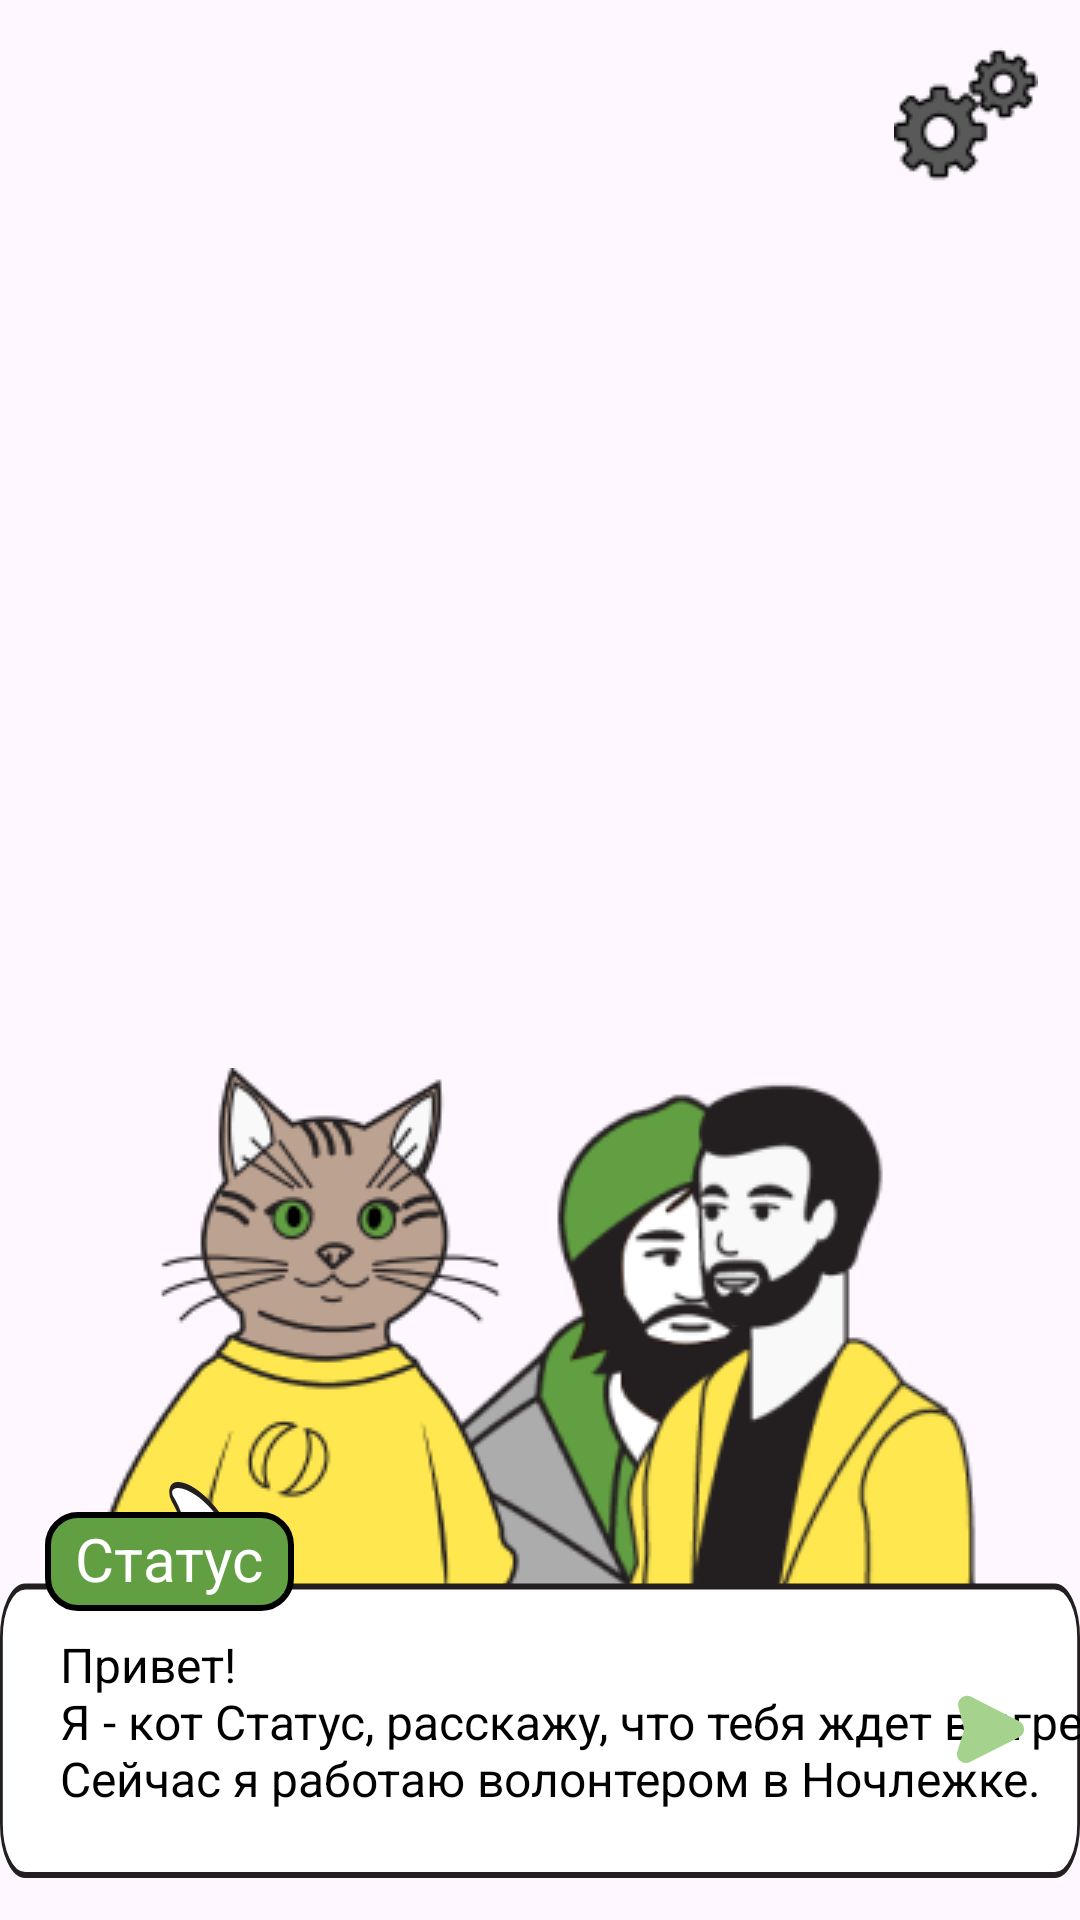

Screen size 1080 x 1920. Icon name, then its center in pixels as (x=x, y=y):
gear wheel: (x=966, y=115)
